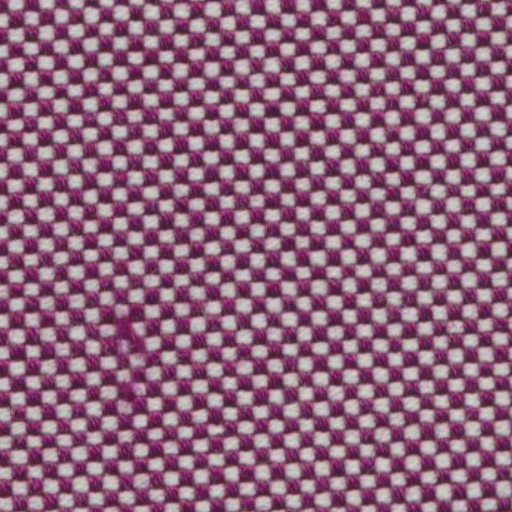DuanSha: (100, 300, 170, 366)
